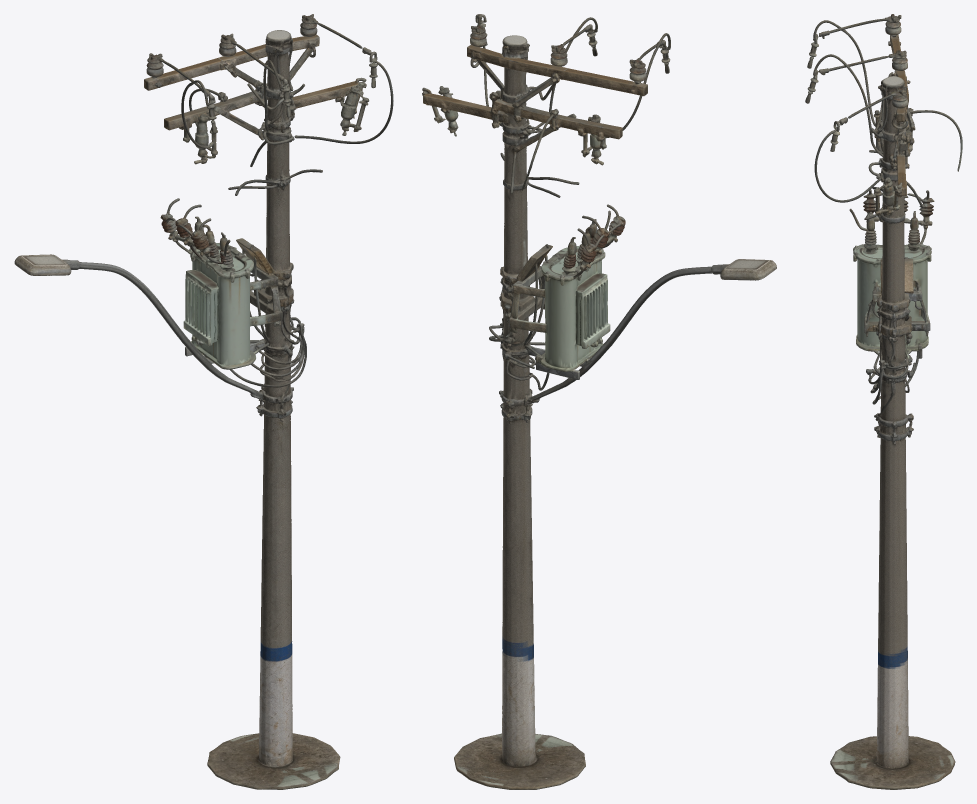
The model's file is power_pole.glb.
3 views of the same model, side by side, from view 1: azimuth 30°, elevation 25°; view 2: azimuth 150°, elevation 25°; view 3: azimuth 270°, elevation 25° (orthographic). The views are drawn at different scales.
Visible parts, largest first — view 1: power_pole; view 2: power_pole; view 3: power_pole.
Boxes of the visible parts, x1,y1,x2,y2 form: power_pole: [14, 14, 393, 789]; power_pole: [422, 14, 776, 789]; power_pole: [805, 14, 962, 789].
Size of the model in its own units: 94.22 by 191 by 39.19.
Materials: 1 (1 with a texture image).
